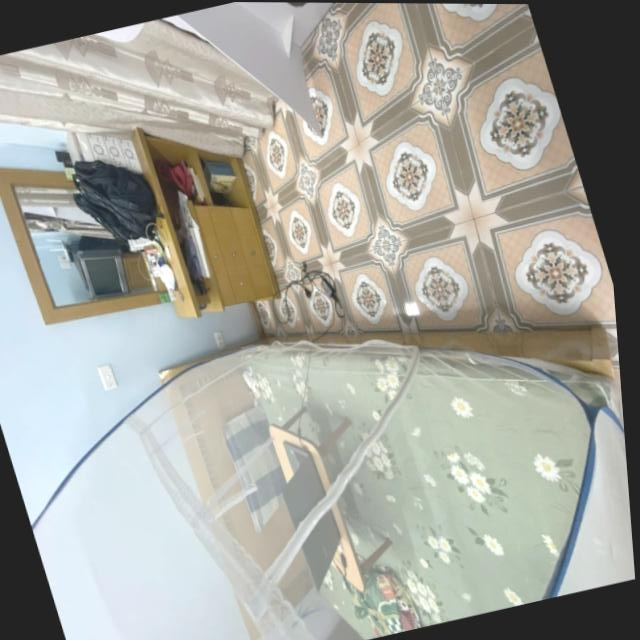outlet: (207, 321, 232, 355)
